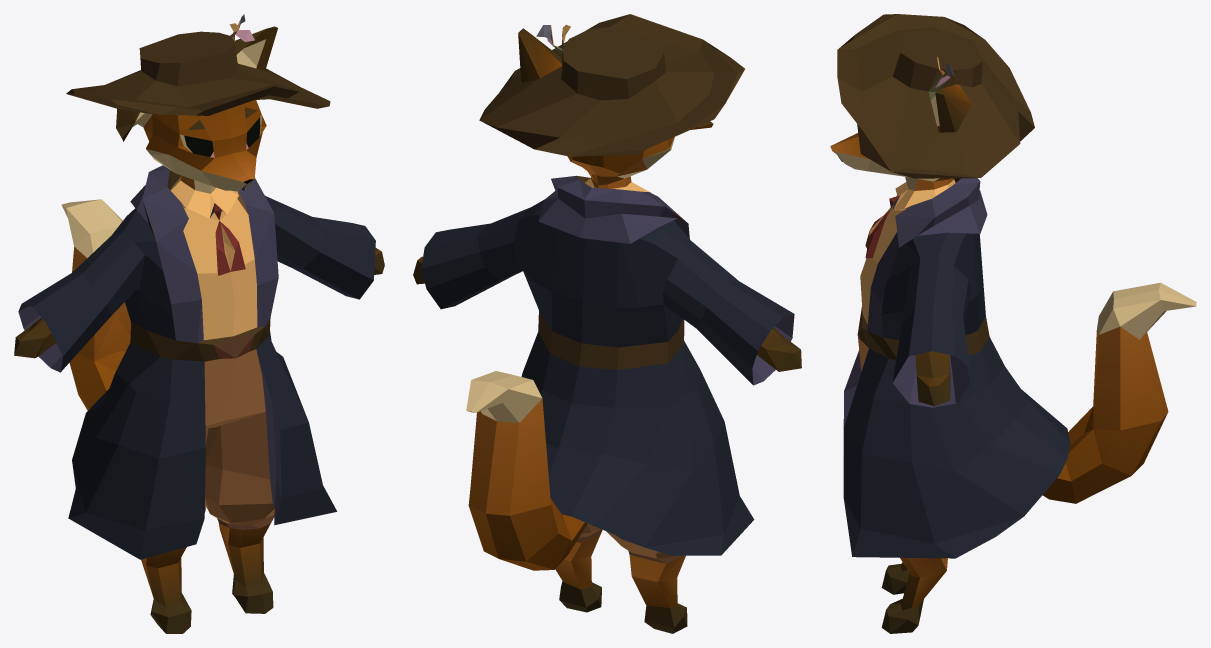
Rendered from Vulpecula_LowPoly_Textured.fbx.
3 renders of one model, left to right at view 1: azimuth 30°, elevation 25°; view 2: azimuth 150°, elevation 25°; view 3: azimuth 270°, elevation 25°, orthographic. The views are drawn at different scales.
Visible parts, largest first — view 1: Body; view 2: Body; view 3: Body.
Part boxes in pixels (left/top/right/bottom): Body: left=14, top=14, right=384, bottom=633; Body: left=413, top=14, right=801, bottom=633; Body: left=830, top=14, right=1196, bottom=633.
Bounding box in the file's own units: 876 × 1288 × 751.
